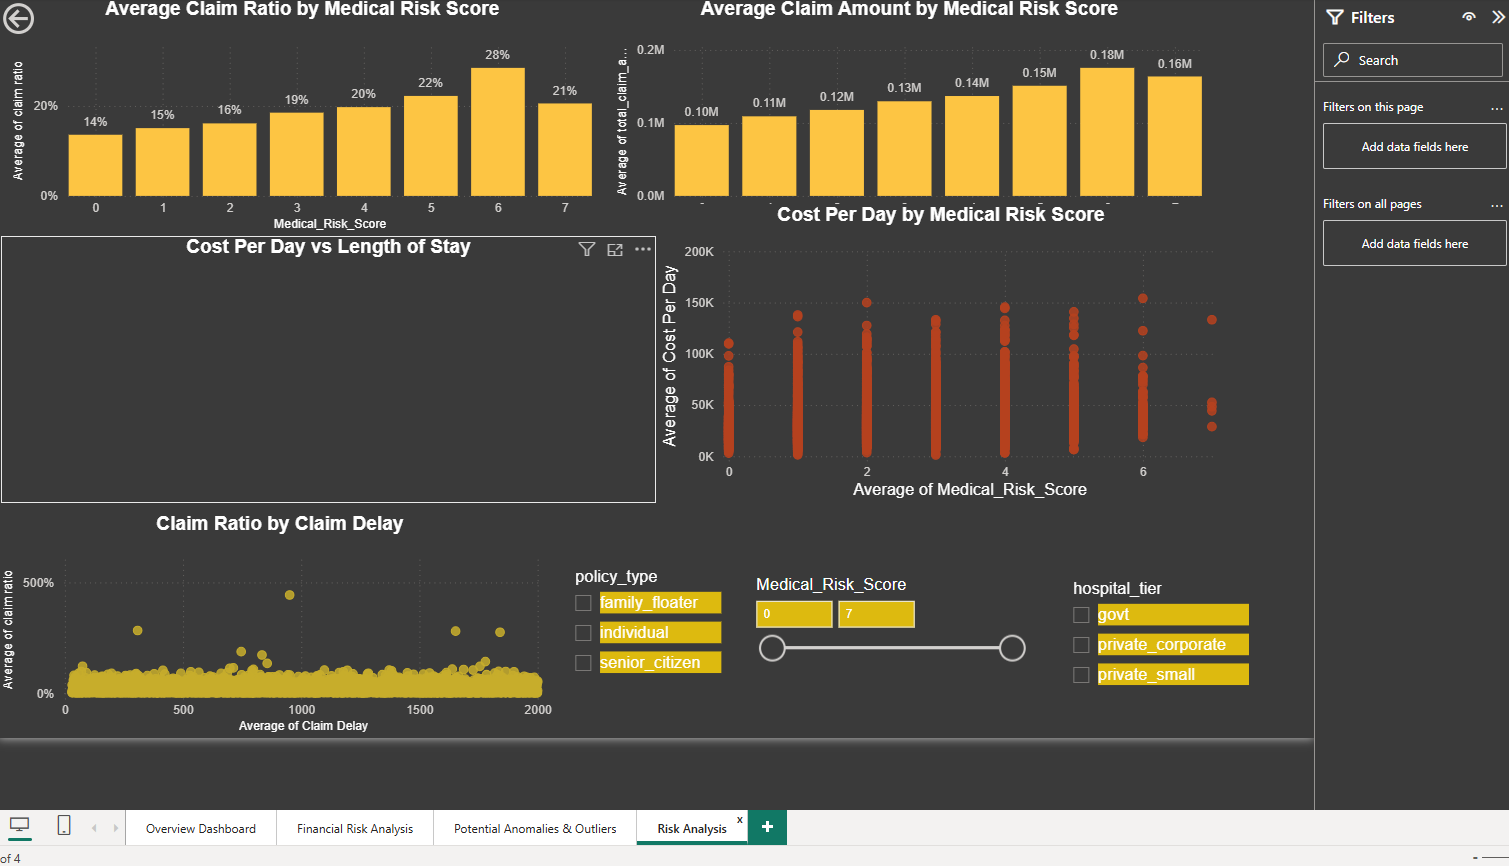

The dashboard page shown, as its layout file describes it:
{"tool":"powerbi","page":{"name":"Risk Analysis","canvas":[1280,720],"ordinal":3},"visuals":[{"type":"clusteredColumnChart","title":"Average Claim Ratio by Medical Risk Score","fields":{"Category":["claims.Medical_Risk_Score"],"Y":["Avg(claims.claim ratio)"]},"box":[9.7,0,572.9,231.5],"z":0},{"type":"clusteredColumnChart","title":"Average Claim Amount by Medical Risk Score","fields":{"Category":["claims.Medical_Risk_Score"],"Y":["Avg(claims.total_claim_amount)"]},"box":[597.2,0,578.7,231.5],"z":1000},{"type":"scatterChart","title":"Cost Per Day vs Length of Stay","fields":{"X":["claims.length_of_stay"],"Y":["claims.Cost Per Day"]},"box":[2.9,231.5,637.1,259.7],"z":2000},{"type":"scatterChart","title":"Cost Per Day by Medical Risk Score","fields":{"Category":["claims.policy_id"],"X":["Avg(claims.Medical_Risk_Score)"],"Y":["Avg(claims.Cost Per Day)"]},"box":[640,200.4,554.4,290.8],"z":3000},{"type":"scatterChart","title":"Claim Ratio by Claim Delay","fields":{"X":["Avg(claims.Claim Delay)"],"Y":["Avg(claims.claim ratio)"],"Category":["claims.policy_id"]},"box":[0,500.9,548.6,218.8],"z":4000},{"type":"actionButton","box":[0,0,100,40],"z":5000},{"type":"slicer","fields":{"Values":["claims.policy_type"]},"box":[548.6,548.6,160.5,143],"z":6000},{"type":"slicer","fields":{"Values":["claims.hospital_tier"]},"box":[1032.9,560.2,188.7,142],"z":7000},{"type":"slicer","fields":{"Values":["claims.Medical_Risk_Score"]},"box":[724.6,556.4,283,150],"z":8000}]}

Visuals, with their boxes on the page's 1280x720 design canvas (x1, y1, x2, y2). These are canvas units, not pixel positions in the 1509x866 screenshot, which may show the page scaled, cropped or inside an application window:
"Average Claim Ratio by Medical Risk Score" clusteredColumnChart: l=10, t=0, r=583, b=232
"Average Claim Amount by Medical Risk Score" clusteredColumnChart: l=597, t=0, r=1176, b=232
"Cost Per Day vs Length of Stay" scatterChart: l=3, t=232, r=640, b=491
"Cost Per Day by Medical Risk Score" scatterChart: l=640, t=200, r=1194, b=491
"Claim Ratio by Claim Delay" scatterChart: l=0, t=501, r=549, b=720
actionButton: l=0, t=0, r=100, b=40
slicer - claims.policy_type: l=549, t=549, r=709, b=692
slicer - claims.hospital_tier: l=1033, t=560, r=1222, b=702
slicer - claims.Medical_Risk_Score: l=725, t=556, r=1008, b=706
